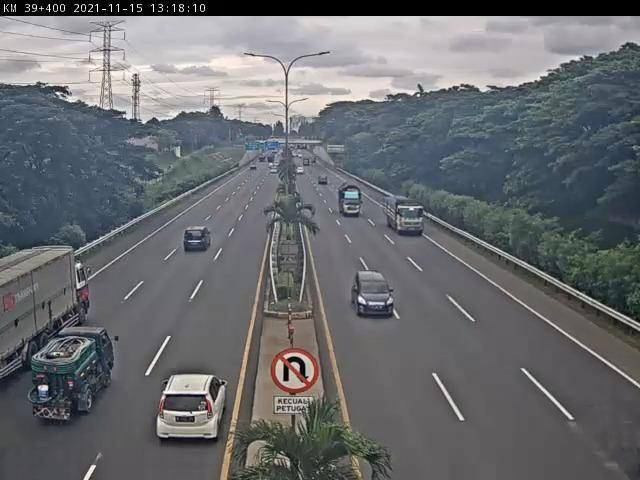car: (158, 375, 233, 444), (354, 273, 397, 318), (185, 226, 214, 252)
truck: (1, 241, 95, 379), (30, 323, 117, 425), (381, 195, 427, 236), (339, 180, 364, 219)
